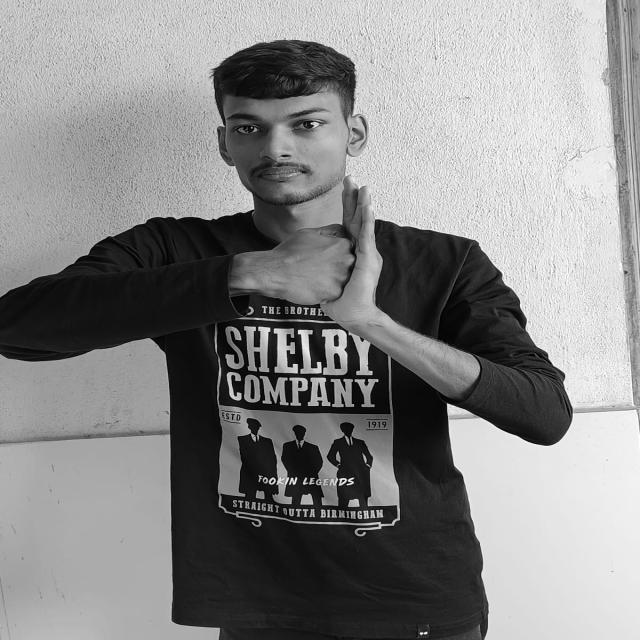Well Done: (289, 172, 382, 330)
